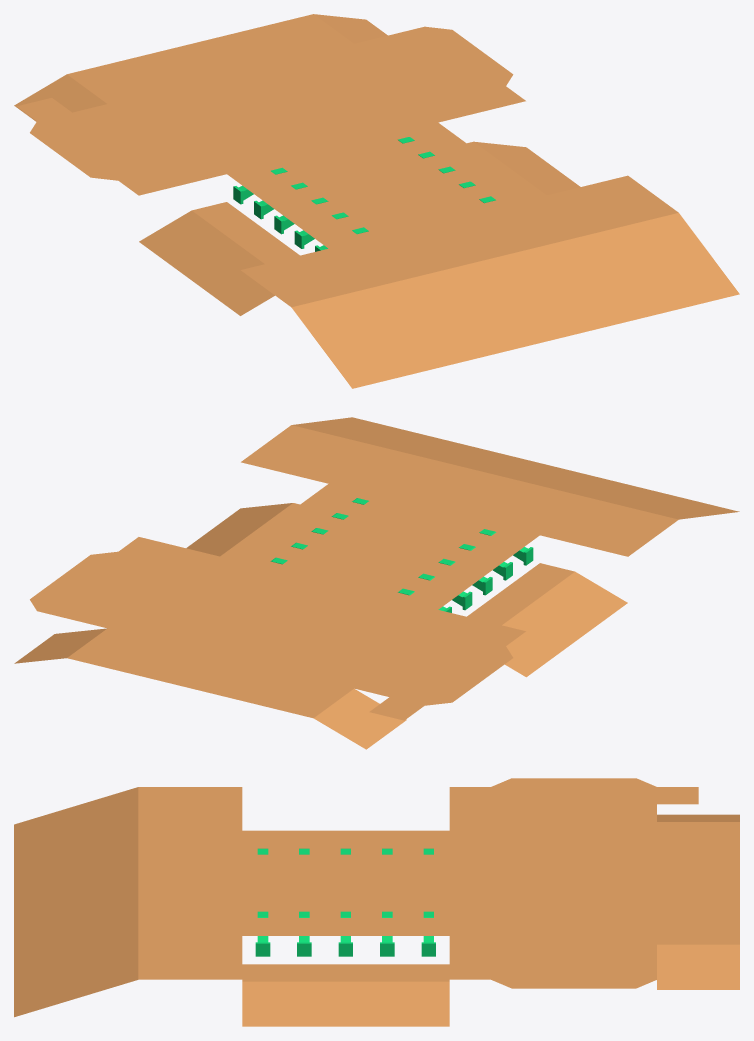
The model's file is Encounter_003_Roof.fbx.
3 views of the same model, one above another, from view 1: azimuth 30°, elevation 25°; view 2: azimuth 150°, elevation 25°; view 3: azimuth 270°, elevation 25° (orthographic).
Visible parts, largest first — view 1: Encounter_003_Roof; view 2: Encounter_003_Roof; view 3: Encounter_003_Roof.
Boxes of the visible parts, box(x1,y1,x2,y2) form: Encounter_003_Roof: box(14, 14, 739, 388); Encounter_003_Roof: box(14, 417, 739, 749); Encounter_003_Roof: box(14, 778, 739, 1026).
Size of the model in its own units: 4800 by 503 by 7000.
